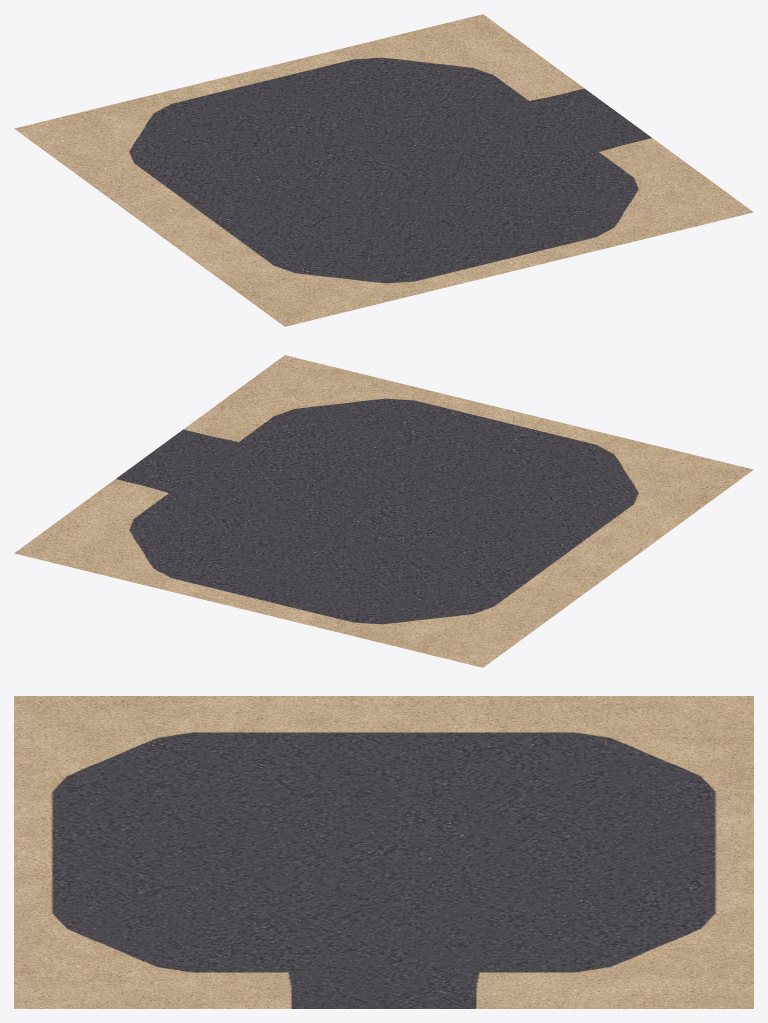
Rendered from SueloRestaurantes1.fbx.
The picture shows the model from 3 angles, top to bottom: view 1: azimuth 30°, elevation 25°; view 2: azimuth 150°, elevation 25°; view 3: azimuth 270°, elevation 25°; orthographic projection. The views are drawn at different scales.
Parts seen in each view (by area): view 1: Asfalto.003; view 2: Asfalto.003; view 3: Asfalto.003.
Boxes of the visible parts, <box> form: Asfalto.003: <box>14,14,753,326</box>; Asfalto.003: <box>14,355,753,667</box>; Asfalto.003: <box>14,696,753,1008</box>.
Size of the model in its own units: 4418 by 0.00125 by 4418.
